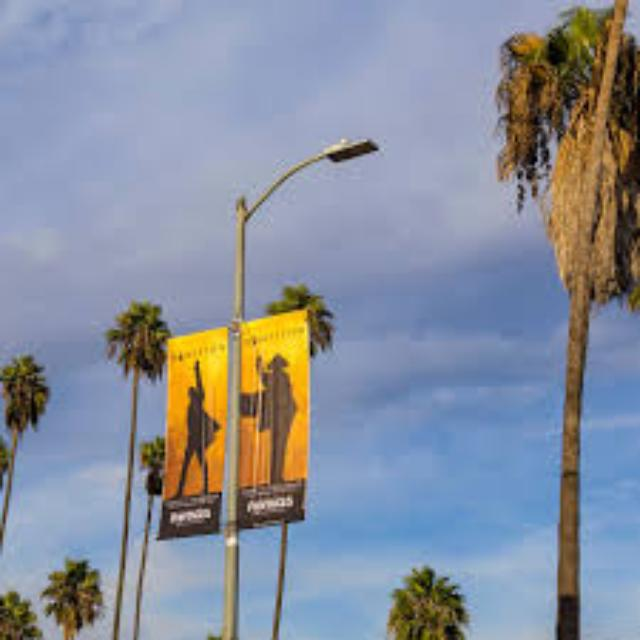Street-Lamp: (214, 75, 388, 640)
